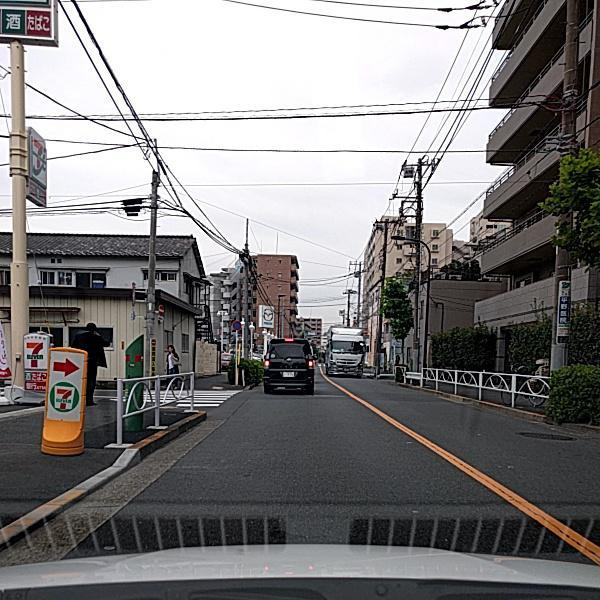D44: (382, 409, 598, 561)
D50: (512, 427, 579, 443)
